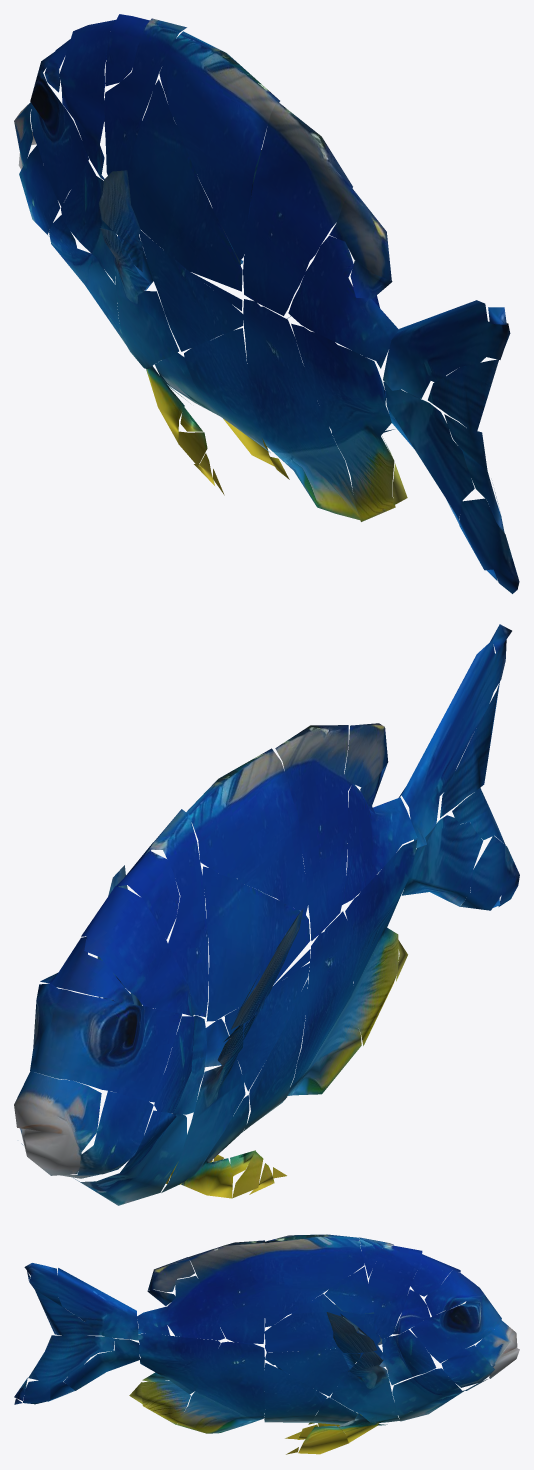
Rendered from trop_damsel.glb.
3 views of the same model, one above another, from view 1: azimuth 30°, elevation 25°; view 2: azimuth 150°, elevation 25°; view 3: azimuth 270°, elevation 25° (orthographic). The views are drawn at different scales.
Parts seen in each view (by area): view 1: tripo_node_f54e2355-b322-467f-9470-3e8dbdaa5ac5; view 2: tripo_node_f54e2355-b322-467f-9470-3e8dbdaa5ac5; view 3: tripo_node_f54e2355-b322-467f-9470-3e8dbdaa5ac5.
Boxes of the visible parts, bbox=[...] form: tripo_node_f54e2355-b322-467f-9470-3e8dbdaa5ac5: bbox=[14, 14, 519, 593]; tripo_node_f54e2355-b322-467f-9470-3e8dbdaa5ac5: bbox=[14, 624, 519, 1205]; tripo_node_f54e2355-b322-467f-9470-3e8dbdaa5ac5: bbox=[14, 1234, 519, 1454].
Size of the model in its own units: 0.2107 by 0.4617 by 0.9965.
Materials: 1 (1 with a texture image).
